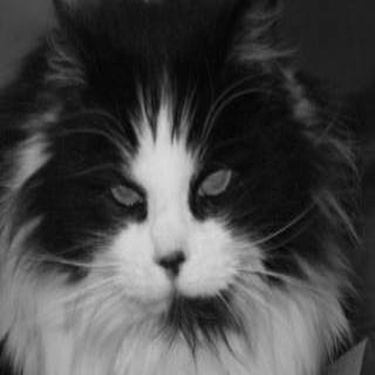cat: (16, 6, 359, 360)
